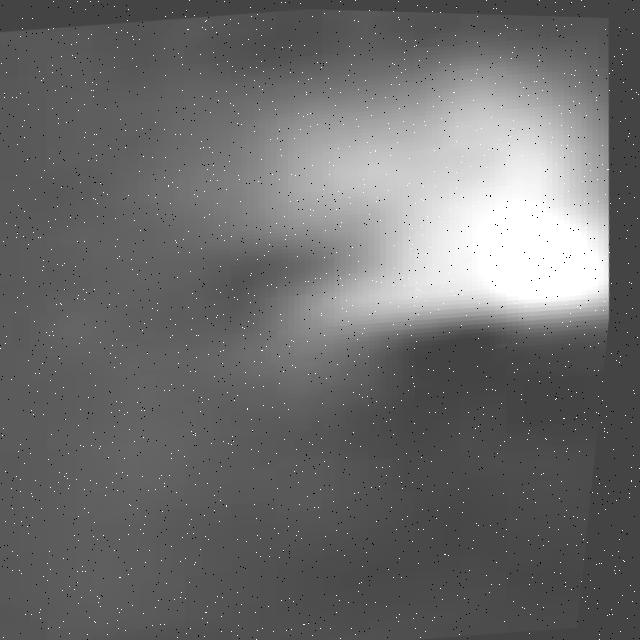person: (139, 37, 638, 383)
